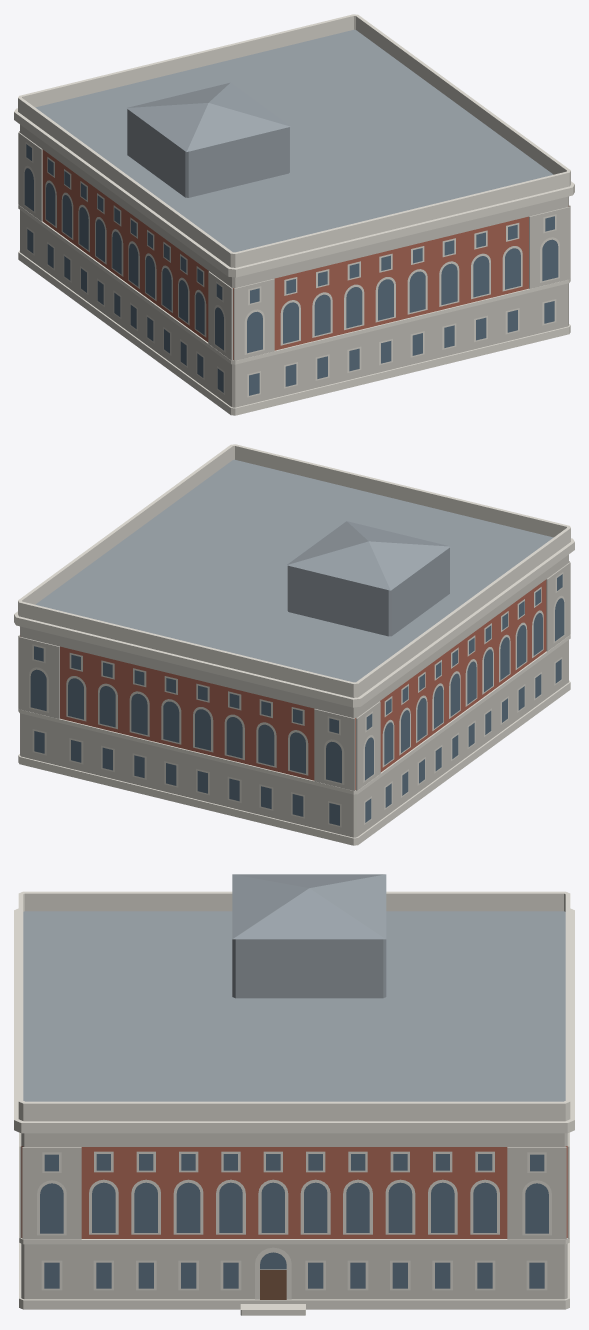
Rendered from pdx-central-library.glb.
3 renders of one model, top to bottom at view 1: azimuth 30°, elevation 25°; view 2: azimuth 150°, elevation 25°; view 3: azimuth 270°, elevation 25°, orthographic. The views are drawn at different scales.
Visible parts, largest first — view 1: Central Library; view 2: Central Library; view 3: Central Library.
Boxes of the visible parts, left/top/right/bottom form: Central Library: left=14, top=14, right=574, bottom=415; Central Library: left=14, top=444, right=574, bottom=845; Central Library: left=14, top=874, right=574, bottom=1315.
Bounding box in the file's own units: 50.7 × 28.6 × 54.7.
